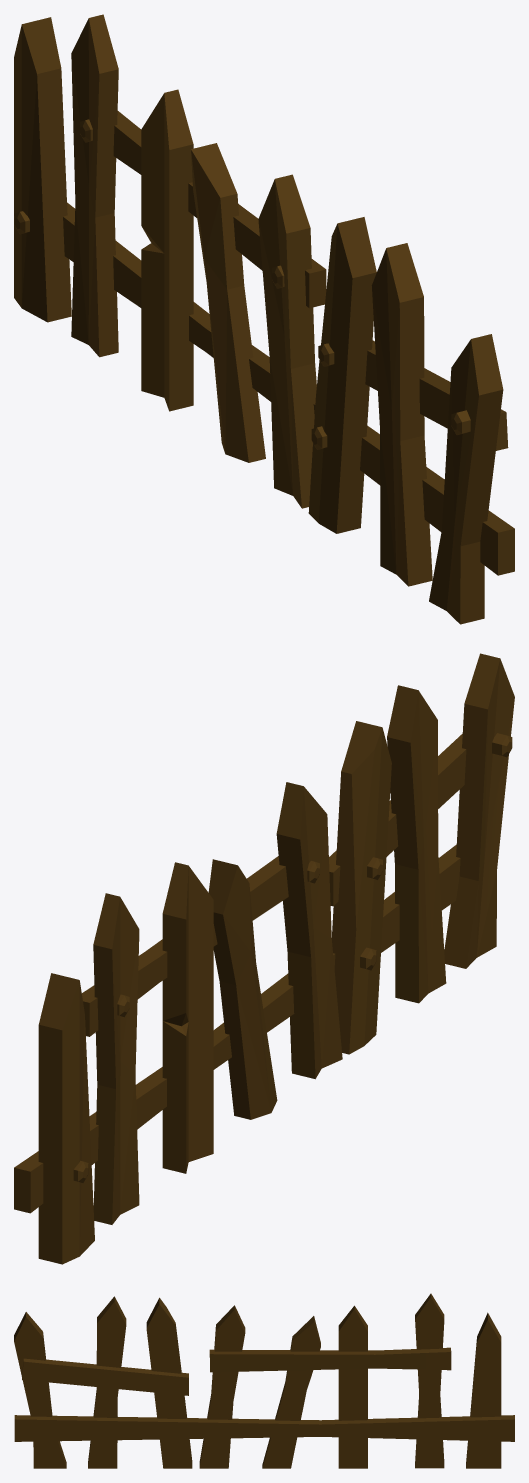
3 renders of one model, top to bottom at view 1: azimuth 30°, elevation 25°; view 2: azimuth 150°, elevation 25°; view 3: azimuth 270°, elevation 25°, orthographic. The views are drawn at different scales.
Parts seen in each view (by area): view 1: Fense_3; view 2: Fense_3; view 3: Fense_3.
Boxes of the visible parts, x1,y1,x2,y2 form: Fense_3: [14, 14, 514, 624]; Fense_3: [14, 653, 514, 1264]; Fense_3: [14, 1293, 514, 1468].
Size of the model in its own units: 0.1936 by 1.29 by 3.41.
